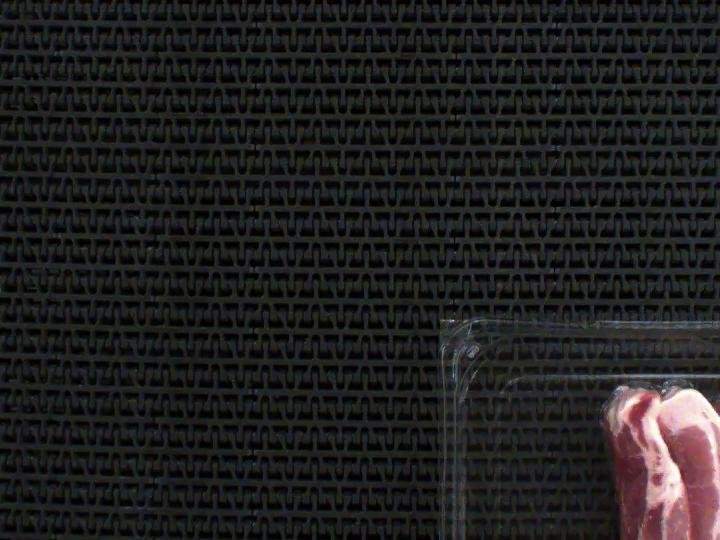unsealed: (582, 367, 720, 429)
